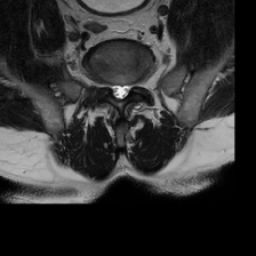CCS_stenosis: (117, 77, 123, 106)
LFS_severe_stenosis: (130, 74, 139, 95)
LLS_normal: (123, 77, 130, 103)
RFS_stenosis: (102, 74, 109, 95)
RLS_normal: (109, 77, 117, 99)
